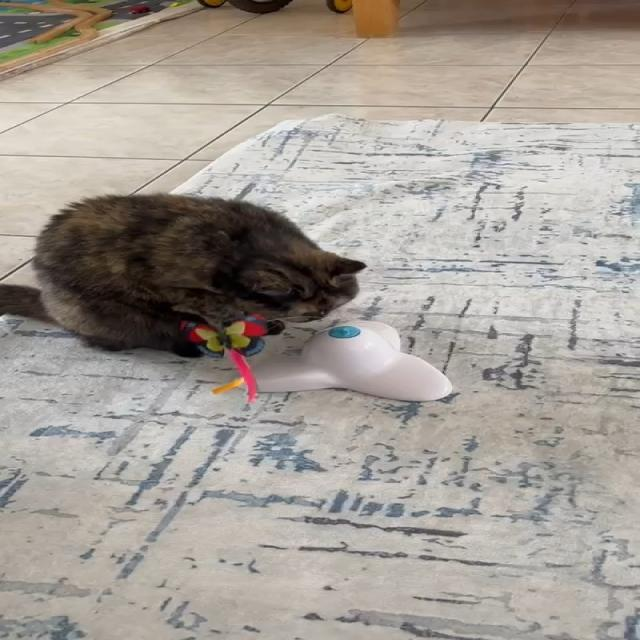authorized: (0, 191, 367, 358)
